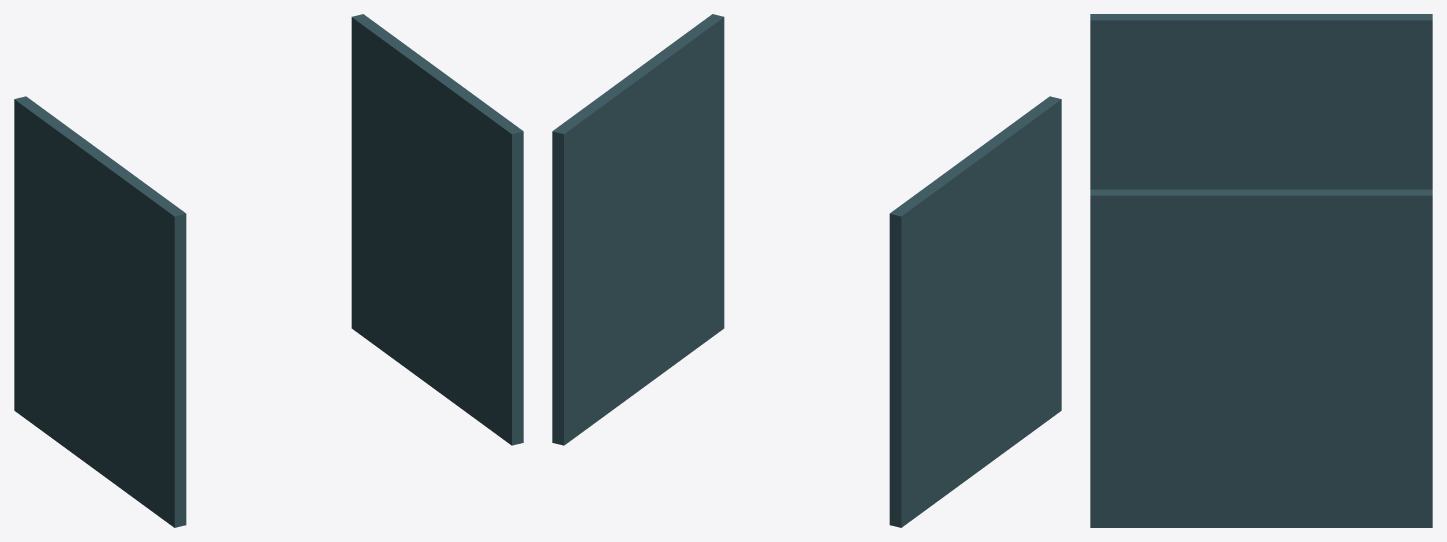
File: SM_Holo_Glass.fbx
3 views of the same model, side by side, from view 1: azimuth 30°, elevation 25°; view 2: azimuth 150°, elevation 25°; view 3: azimuth 270°, elevation 25° (orthographic). The views are drawn at different scales.
Visible parts, largest first — view 1: SM_Holo_Glass; view 2: SM_Holo_Glass; view 3: SM_Holo_Glass.
Boxes of the visible parts, left/top/right/bottom form: SM_Holo_Glass: left=14, top=14, right=523, bottom=527; SM_Holo_Glass: left=552, top=14, right=1061, bottom=527; SM_Holo_Glass: left=1090, top=14, right=1432, bottom=527.
Bounding box in the file's own units: 0.0264 × 0.0332 × 0.0283.
